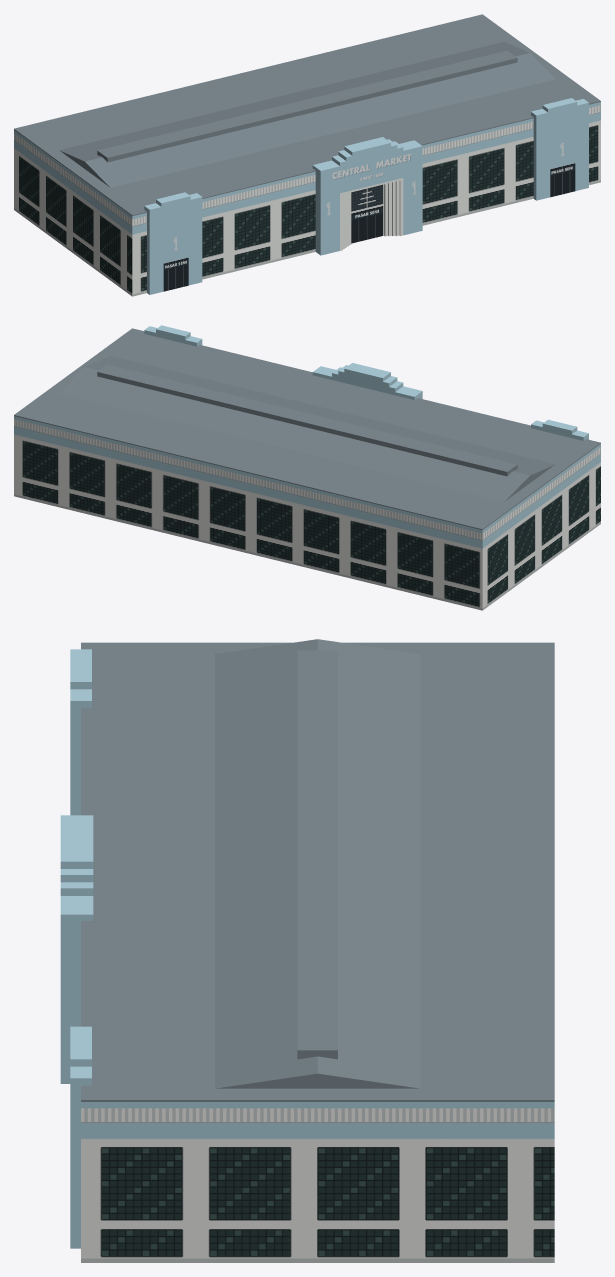
File: central-market.glb
3 renders of one model, top to bottom at view 1: azimuth 30°, elevation 25°; view 2: azimuth 150°, elevation 25°; view 3: azimuth 270°, elevation 25°, orthographic. The views are drawn at different scales.
Parts seen in each view (by area): view 1: cm_roof, cm_facade, cm_blue, cm_portal, cm_sign, cm_white; view 2: cm_roof, cm_facade, cm_blue; view 3: cm_roof, cm_facade, cm_blue.
Part boxes in pixels (x1,y1,x2,y2): cm_roof: [14, 14, 600, 215]; cm_facade: [14, 102, 600, 296]; cm_blue: [144, 98, 588, 294]; cm_portal: [163, 141, 575, 291]; cm_sign: [328, 149, 415, 192]; cm_white: [340, 178, 403, 250]; cm_roof: [14, 328, 600, 529]; cm_facade: [14, 416, 600, 610]; cm_blue: [144, 325, 588, 440]; cm_roof: [81, 639, 554, 1101]; cm_facade: [81, 1102, 554, 1262]; cm_blue: [60, 649, 93, 1248].
Size of the model in its own units: 80 by 15.6 by 36.52.
6 materials, 3 textured.
